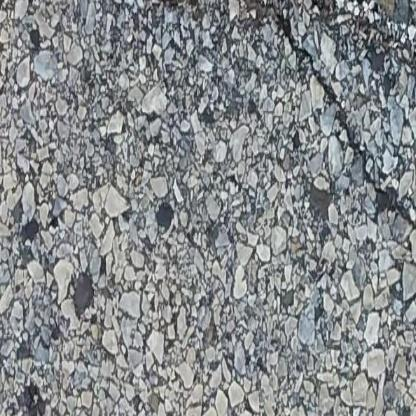Cracks: (190, 0, 416, 252)
